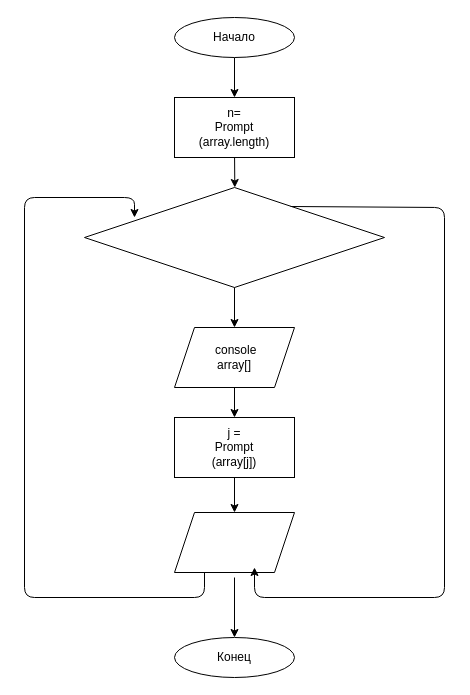
Image size: 470x695. Some labels were removed from this diagram. The shapes that lost their labels are listed below. From the top down, each one's centre as x and y in pixels, then its label:
At point (234, 237): "i = 0 i <= array(n) index++ array[]".
At point (234, 542): "console array[j]".
